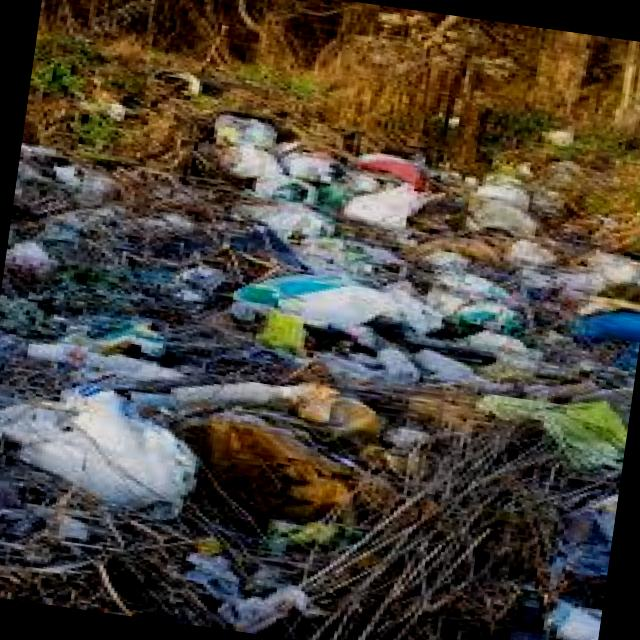garbage: (0, 70, 640, 575)
